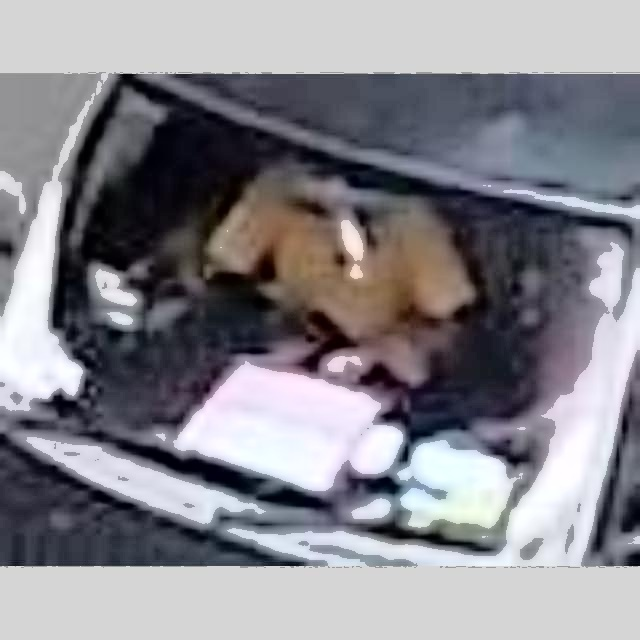tidak-pakai: (224, 144, 480, 426)
